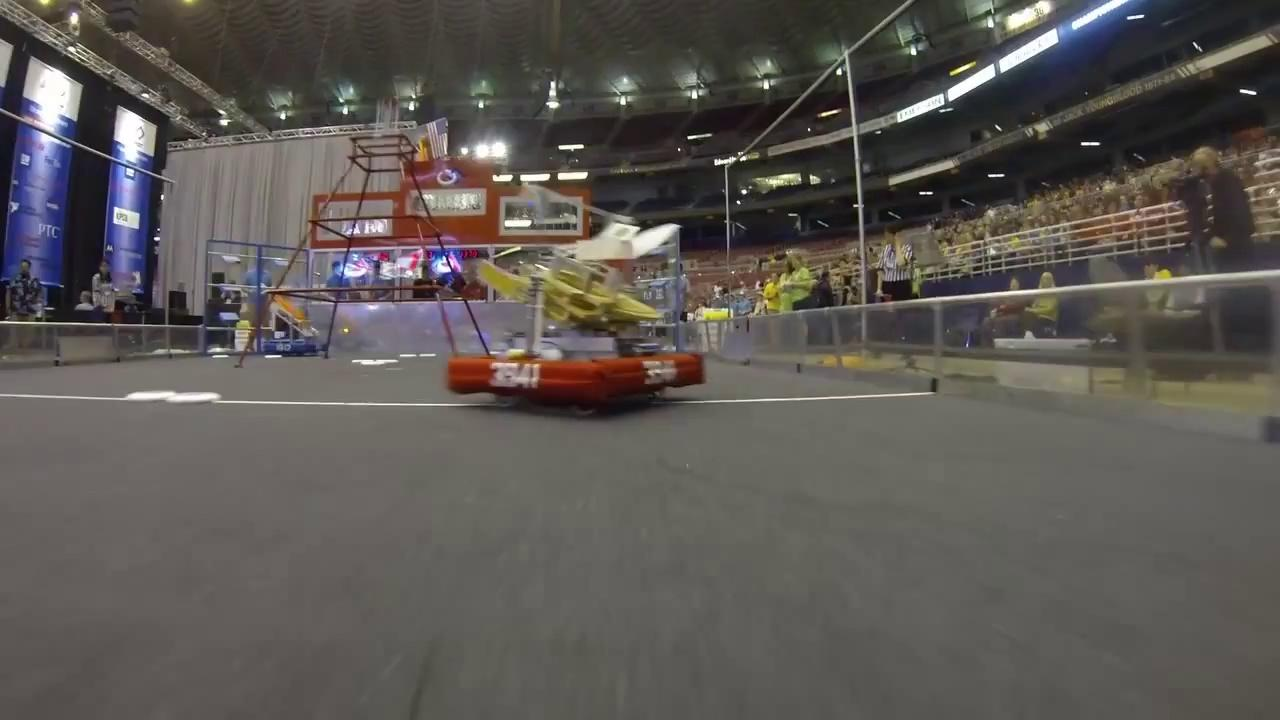robot: (443, 219, 708, 417), (256, 287, 329, 357)
